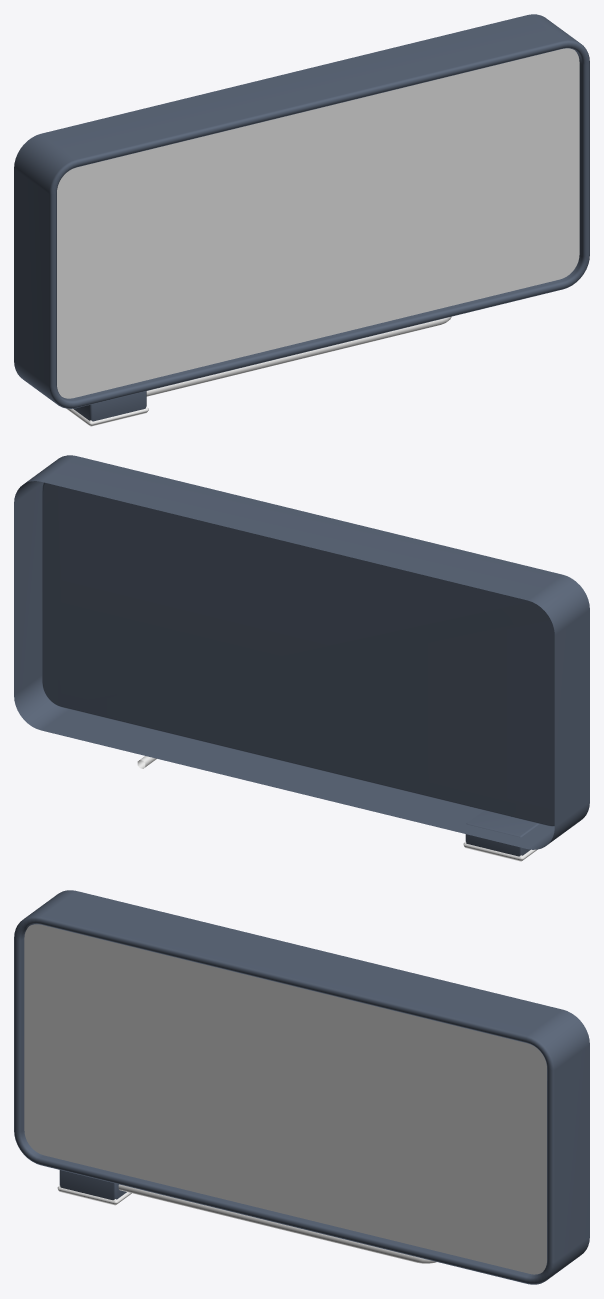
Rendered from scoreBoard.fbx.
3 renders of one model, top to bottom at view 1: azimuth 30°, elevation 25°; view 2: azimuth 150°, elevation 25°; view 3: azimuth 330°, elevation 25°, orthographic.
Visible parts, largest first — view 1: Cube.001, Cube; view 2: Cube; view 3: Cube.001, Cube.
Boxes of the visible parts, x1=… form: Cube.001: x1=57, y1=48, x2=579, y2=398; Cube: x1=14, y1=14, x2=589, y2=426; Cube: x1=14, y1=455, x2=589, y2=861; Cube.001: x1=24, y1=924, x2=546, y2=1274; Cube: x1=14, y1=890, x2=589, y2=1284.
Size of the model in its own units: 200 by 96.41 by 24.73.
